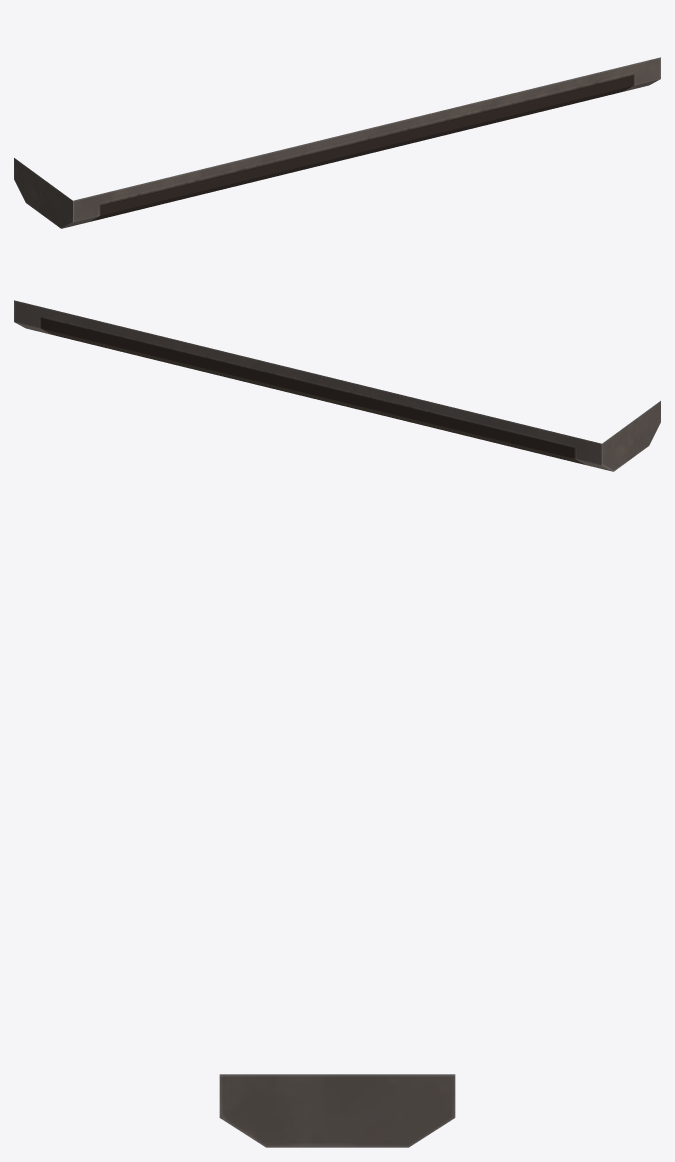
File: SM_Props_Light_02.glb
The picture shows the model from 3 angles, top to bottom: view 1: azimuth 30°, elevation 25°; view 2: azimuth 150°, elevation 25°; view 3: azimuth 270°, elevation 25°; orthographic projection. The views are drawn at different scales.
Visible parts, largest first — view 1: SM_Props_Light_02; view 2: SM_Props_Light_02; view 3: SM_Props_Light_02.
Part boxes in pixels (<box>): SM_Props_Light_02: <box>14,57,660,228</box>; SM_Props_Light_02: <box>14,300,660,471</box>; SM_Props_Light_02: <box>219,1074,455,1147</box>.
Bounding box in the file's own units: 1.17 × 0.0697 × 0.2029.
Materials: 1 (1 with a texture image).
